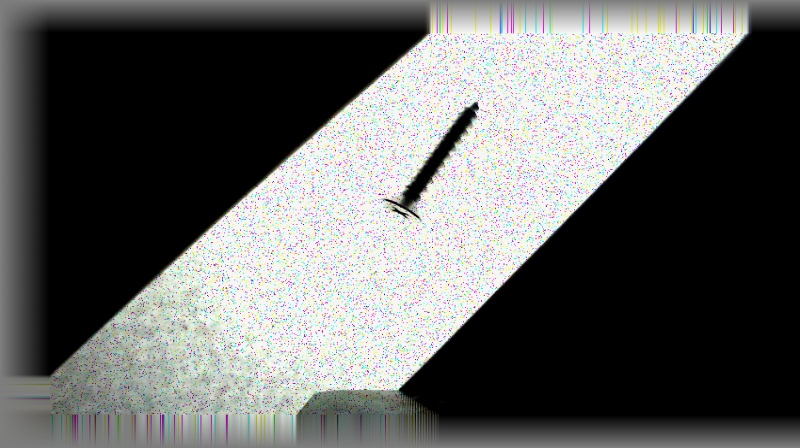S001: (375, 100, 480, 225)
